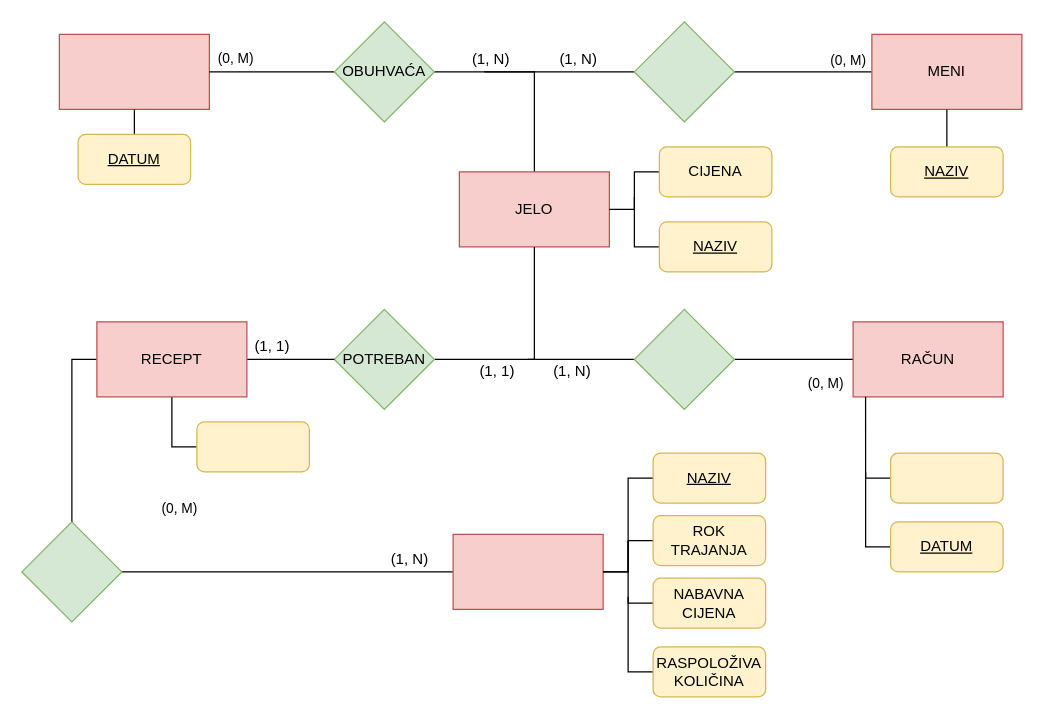
Some shapes in this 1044 by 719 pixel diagram are drawn without their labels. The centre of each missing label's shape, as x and y in pixels:
BROJ RECEPTA: the point at 252,446
DNEVNI MENI: the point at 133,71
ID: the point at 946,477
NAMIRNICE: the point at 527,571
NUDI: the point at 683,71
SADRŽI: the point at 683,358
TROŠI: the point at 71,571
